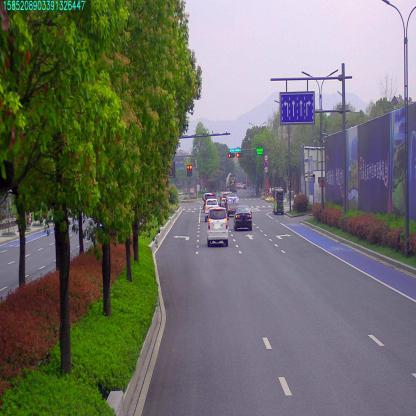traffic-light: (230, 147, 242, 153), (228, 153, 235, 159), (236, 153, 244, 157)
